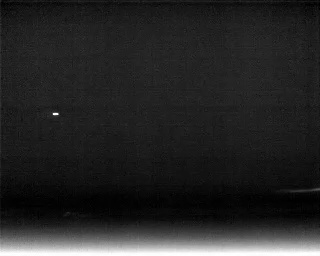AIRPLANE: (51, 110, 60, 118)
